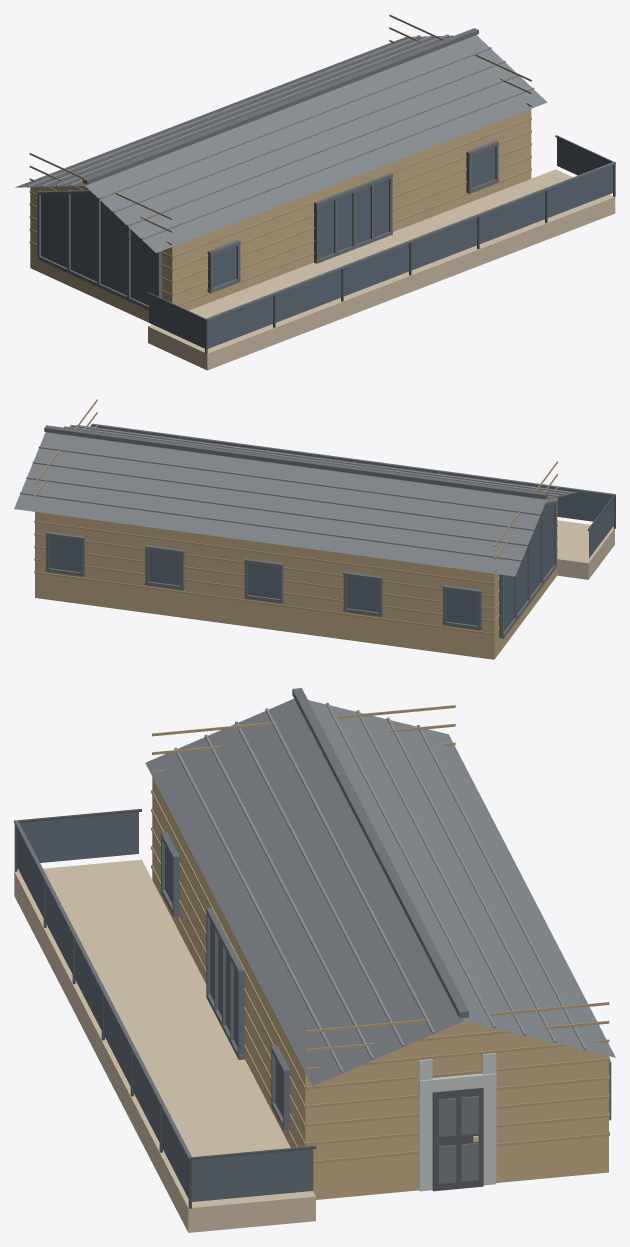
3 views of the same model, one above another, from view 1: azimuth 30°, elevation 25°; view 2: azimuth 150°, elevation 25°; view 3: azimuth 270°, elevation 25° (orthographic). The views are drawn at different scales.
Visible parts, largest first — view 1: slate, door_wood, larch, slate_dk, slate_lt, window_glass_015, door_wood_p, window_glass_001, window_glass_005, window_glass_006, window_glass_002, window_glass_004 (+10 smaller); view 2: slate, door_wood, slate_dk, slate_lt, door_wood_p, window_glass_015, larch, window_glass_001, window_glass_019, window_glass_020, window_glass_016, window_glass_017 (+2 smaller); view 3: slate, larch, door_wood, slate_dk, slate_lt, door_wood_p, window_glass_008, window_glass_007, stone_band, door_dark_p, door_dark, pipe (+6 smaller).
Boxes of the visible parts, x1,y1,x2,y2 form: slate: (15, 35, 547, 252); door_wood: (30, 109, 531, 322); larch: (148, 169, 615, 370); slate_dk: (37, 28, 615, 320); slate_lt: (27, 34, 534, 239); window_glass_015: (41, 193, 156, 305); door_wood_p: (29, 14, 531, 306); window_glass_001: (207, 296, 273, 348); window_glass_005: (479, 191, 545, 243); window_glass_006: (547, 165, 613, 217); window_glass_002: (275, 270, 341, 322); window_glass_004: (411, 217, 477, 270); slate: (14, 425, 577, 576); door_wood: (35, 497, 557, 659); slate_dk: (44, 423, 614, 638); slate_lt: (20, 425, 571, 561); door_wood_p: (34, 399, 557, 635); window_glass_015: (504, 504, 553, 631); larch: (557, 520, 614, 579); window_glass_001: (529, 485, 612, 521); window_glass_019: (347, 577, 378, 612); window_glass_020: (446, 590, 477, 625); window_glass_016: (49, 537, 80, 572); window_glass_017: (148, 550, 179, 585); slate: (145, 699, 615, 1086); larch: (14, 859, 315, 1232); door_wood: (152, 777, 608, 1199); slate_dk: (14, 688, 611, 1158); slate_lt: (174, 702, 586, 1073); door_wood_p: (151, 705, 609, 1163); window_glass_008: (192, 1149, 313, 1201); window_glass_007: (19, 812, 138, 862); stone_band: (418, 1053, 496, 1191); door_dark_p: (438, 1096, 478, 1183); door_dark: (432, 1087, 483, 1191); pipe: (14, 808, 316, 1208).
Size of the model in its own units: 16.15 by 3.82 by 11.07.
